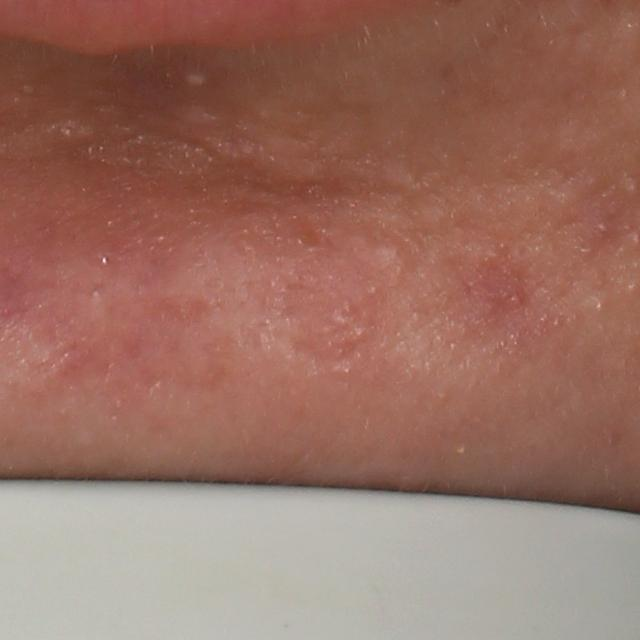comedo: (595, 299, 608, 314)
hypertrophic_scar: (50, 116, 103, 146)
